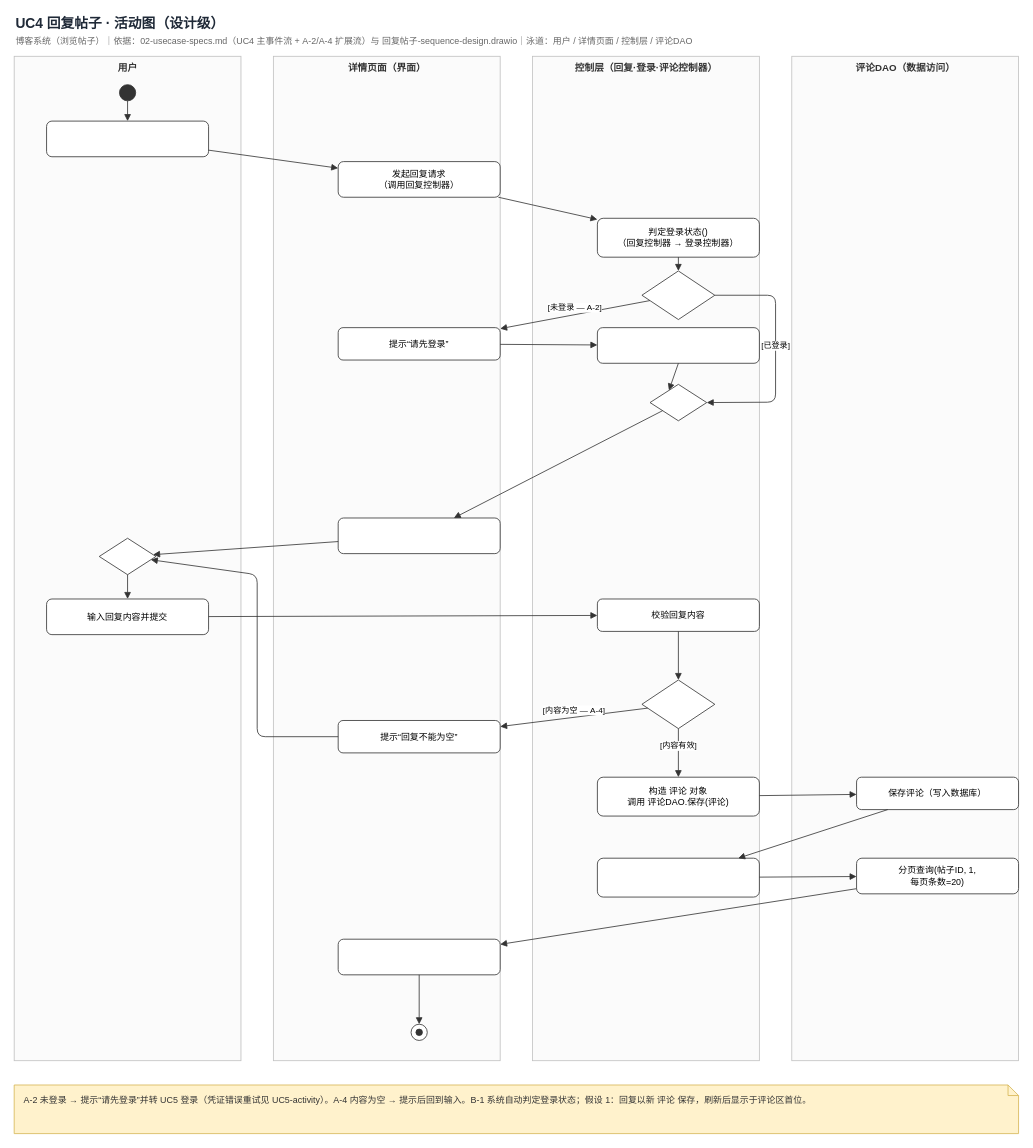
The diagram is 1033 pixels wide and 1148 high, and some of its shapes have lost their labels. Here are the shapes that lost their labels. From the top down, the centre of each, then its label:
At (127,138): "点击“回复”（UC2 扩展点）".
At (678,345): "转 UC5 登录 （成功后返回原帖）".
At (418,535): "展示回复输入框".
At (678,877): "刷新评论列表 （调用 评论控制器.浏览评论）".
At (418,956): "刷新评论区： 新回复显示于首位".
